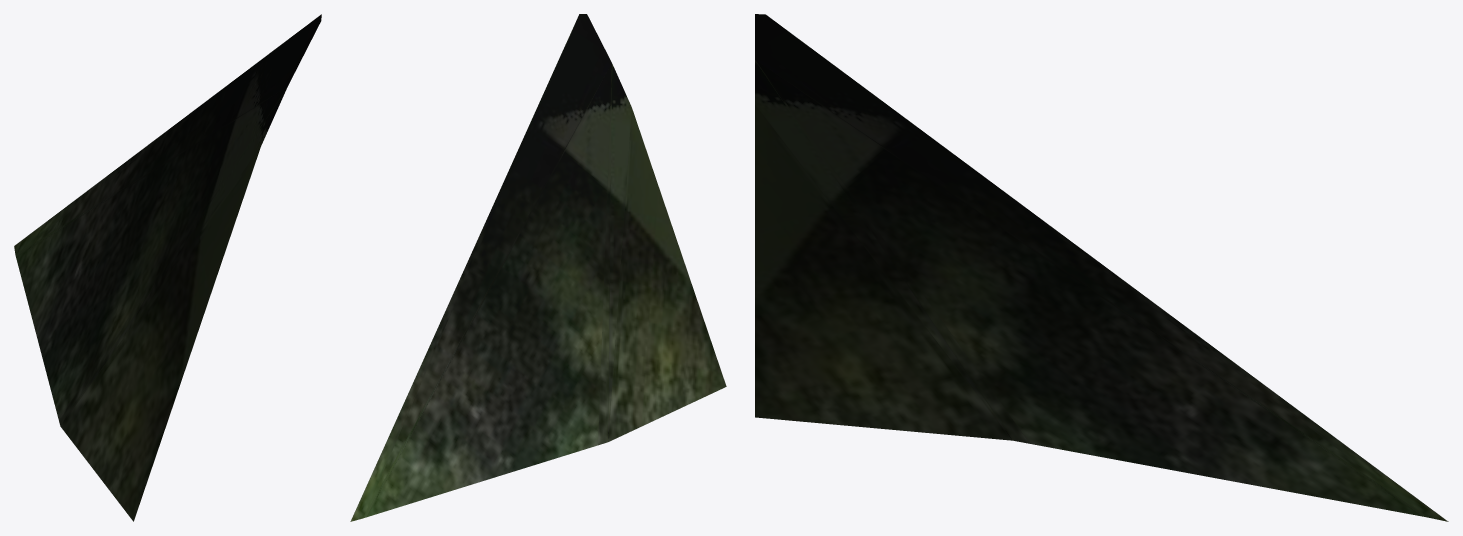
3 views of the same model, side by side, from view 1: azimuth 30°, elevation 25°; view 2: azimuth 150°, elevation 25°; view 3: azimuth 270°, elevation 25° (orthographic). The views are drawn at different scales.
Bounding box in the file's own units: 1.69 × 3.82 × 4.74.
1 material, 1 textured.
